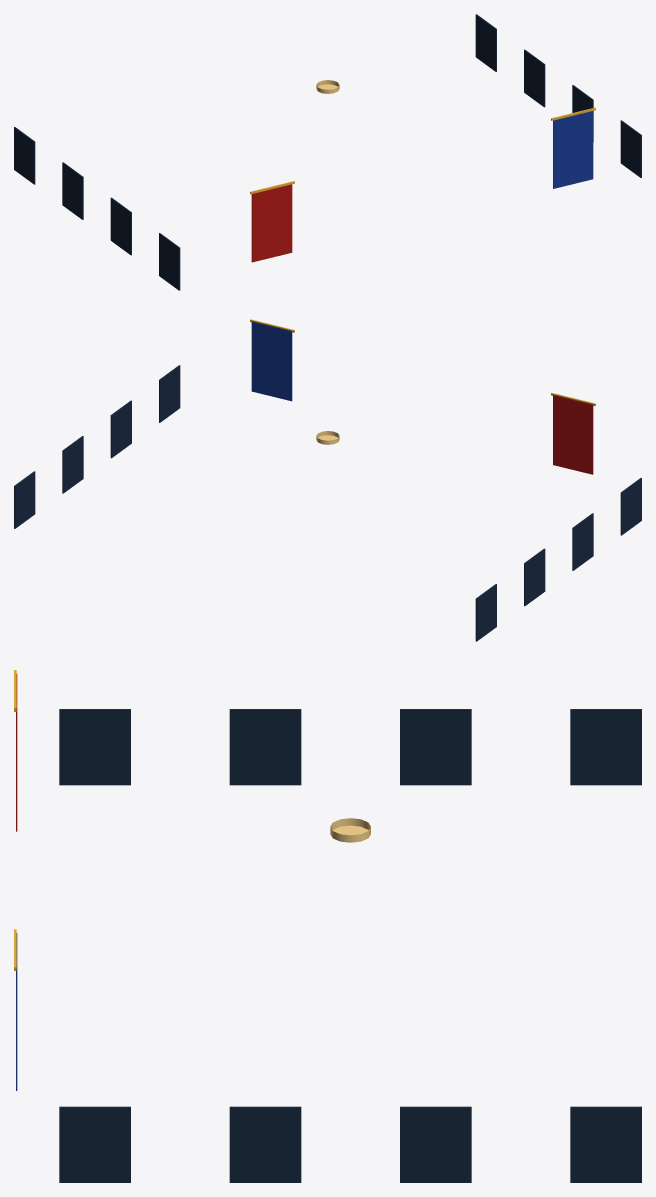
Rendered from SM_Interior_academy_classroom_NoCol.fbx.
3 renders of one model, top to bottom at view 1: azimuth 30°, elevation 25°; view 2: azimuth 150°, elevation 25°; view 3: azimuth 270°, elevation 25°, orthographic. The views are drawn at different scales.
Parts seen in each view (by area): view 1: SM_Interior_academy_classroom_NoCol; view 2: SM_Interior_academy_classroom_NoCol; view 3: SM_Interior_academy_classroom_NoCol.
Boxes of the visible parts, bbox=[...] form: SM_Interior_academy_classroom_NoCol: bbox=[14, 14, 641, 290]; SM_Interior_academy_classroom_NoCol: bbox=[14, 319, 641, 641]; SM_Interior_academy_classroom_NoCol: bbox=[14, 670, 641, 1182].
Bounding box in the file's own units: 13.84 × 2.67 × 9.21.
